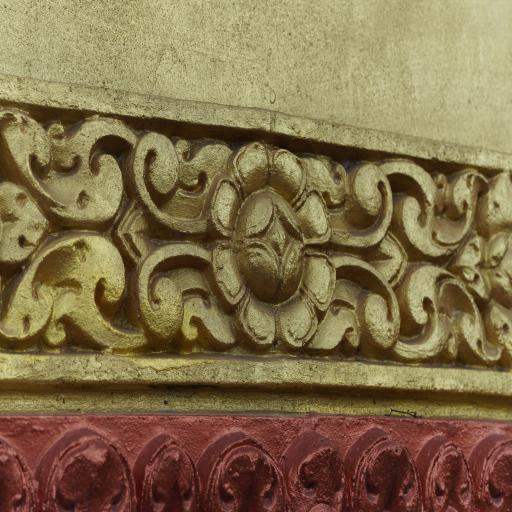hoa: (205, 136, 343, 371)
la: (1, 217, 152, 369), (2, 95, 142, 240), (377, 162, 512, 260), (406, 255, 512, 373), (137, 241, 230, 354), (137, 118, 221, 243), (45, 413, 128, 512), (344, 416, 422, 512), (209, 424, 281, 512), (142, 421, 202, 512), (288, 419, 341, 512), (419, 430, 475, 512), (474, 422, 512, 512), (0, 428, 36, 512)
